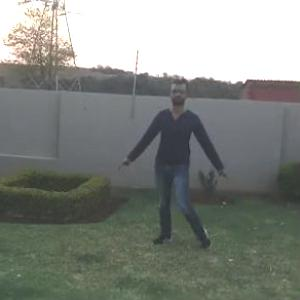land: (124, 69, 244, 270)
